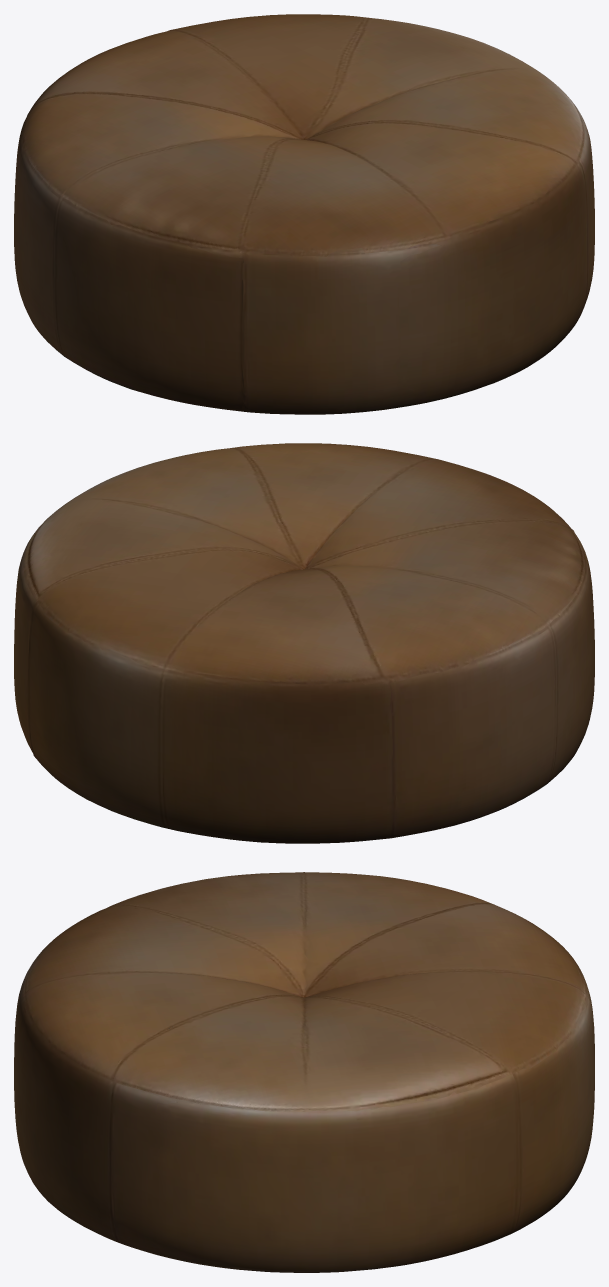
The picture shows the model from 3 angles, top to bottom: view 1: azimuth 30°, elevation 25°; view 2: azimuth 150°, elevation 25°; view 3: azimuth 270°, elevation 25°; orthographic projection.
Parts seen in each view (by area): view 1: geometry_0; view 2: geometry_0; view 3: geometry_0.
Part boxes in pixels (x1=…): geometry_0: x1=14, y1=14, x2=594, y2=414; geometry_0: x1=14, y1=443, x2=594, y2=843; geometry_0: x1=14, y1=872, x2=594, y2=1272.
Bounding box in the file's own units: 1 × 0.3647 × 0.9999.
Materials: 1 (1 with a texture image).
